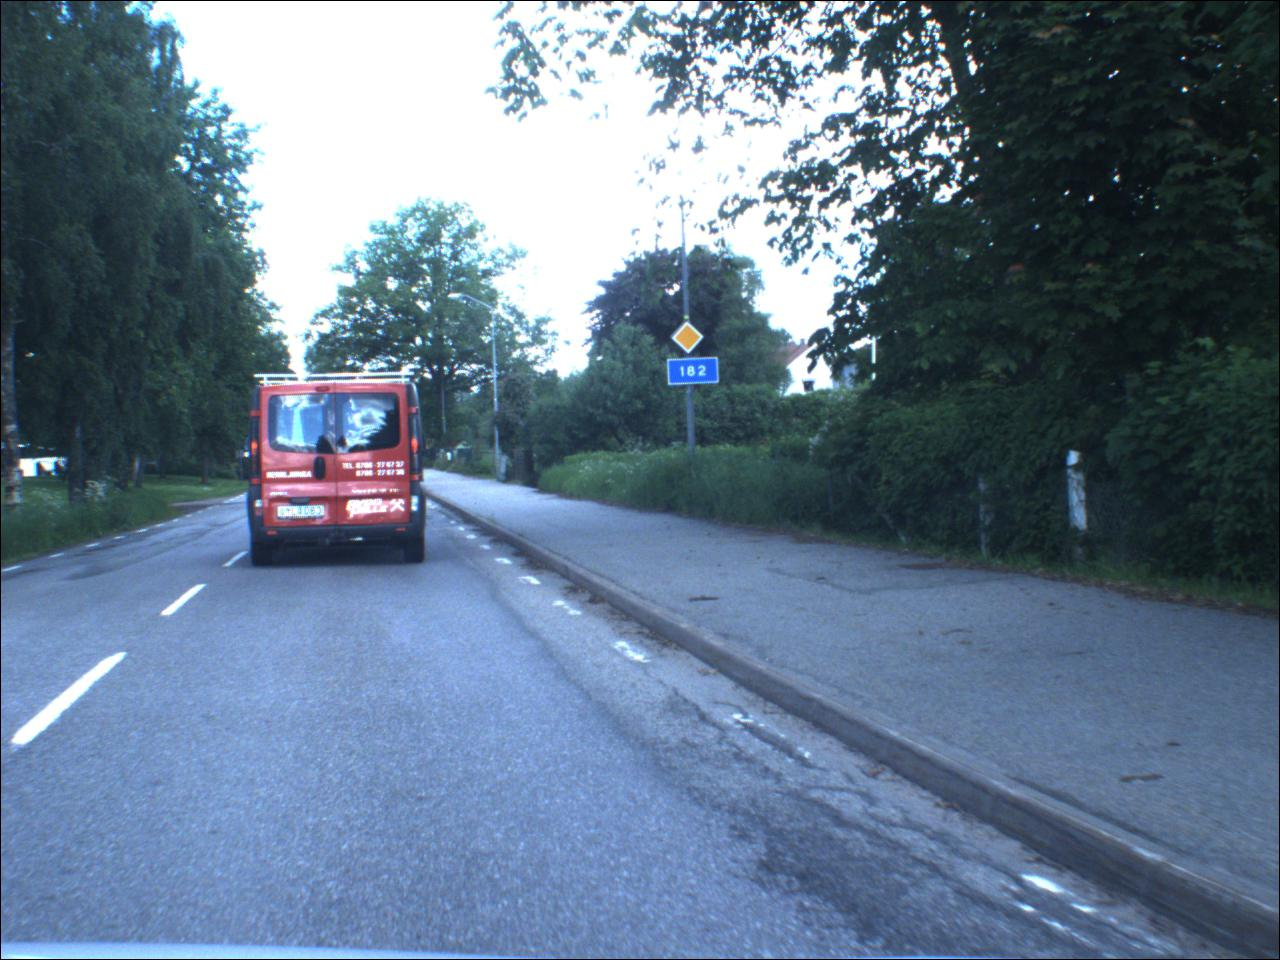PRIORITY_ROAD: (671, 323, 707, 356)
